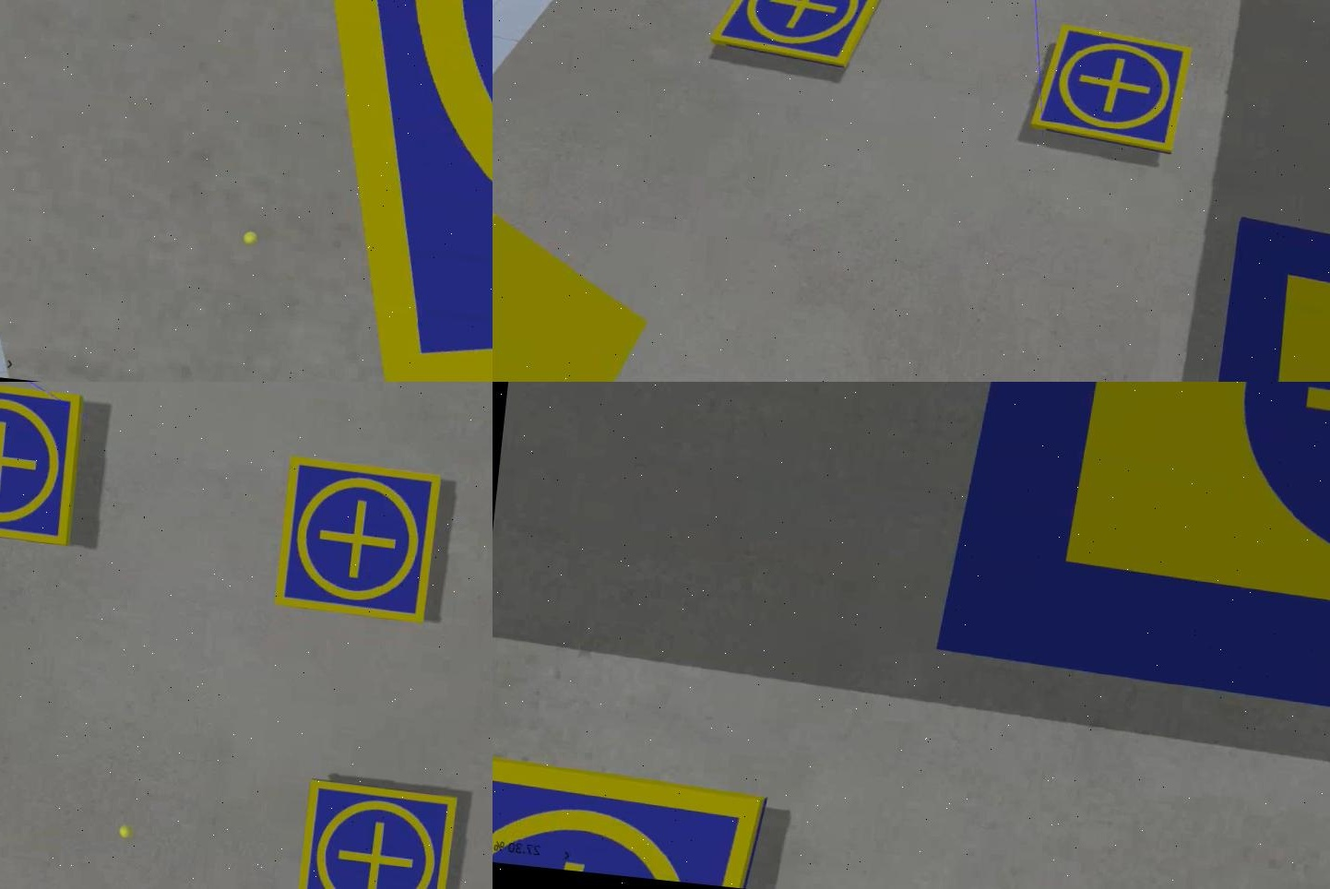large_base: (926, 382, 1328, 776)
small_base: (184, 1, 491, 382), (491, 757, 767, 889), (270, 454, 444, 627), (1027, 22, 1193, 156), (293, 778, 458, 889), (0, 382, 86, 545), (705, 1, 894, 74)
